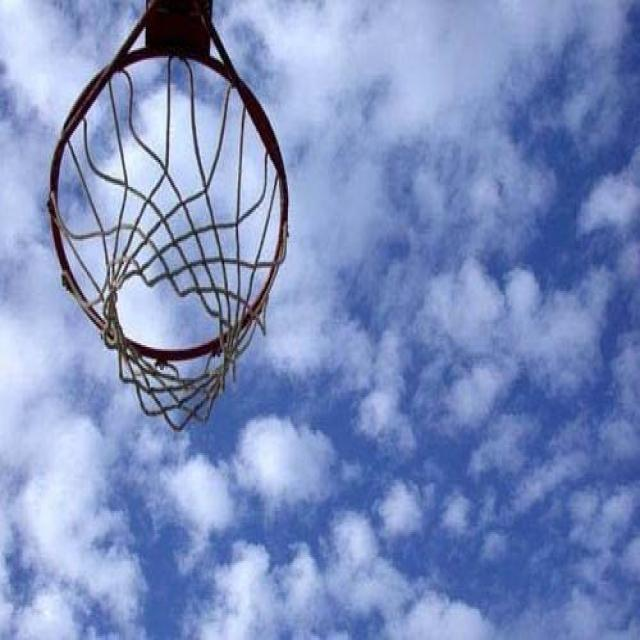hoop: (40, 0, 297, 443)
